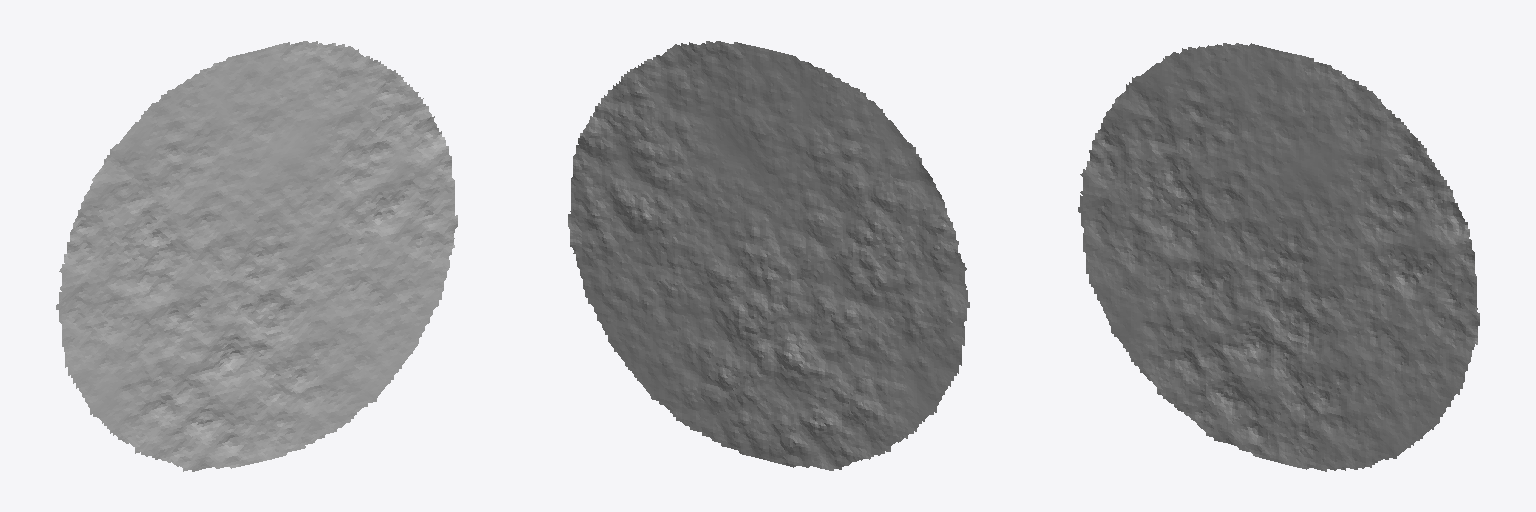
File: water.obj
The picture shows the model from 3 angles: view 1: azimuth 30°, elevation 25°; view 2: azimuth 150°, elevation 25°; view 3: azimuth 330°, elevation 25°; orthographic projection.
Parts seen in each view (by area): view 1: groundplanedisk2.001; view 2: groundplanedisk2.001; view 3: groundplanedisk2.001.
Part boxes in pixels (x1,y1,x2,y2): groundplanedisk2.001: (56,41,457,471); groundplanedisk2.001: (568,41,969,470); groundplanedisk2.001: (1078,43,1479,471).
Size of the model in its own units: 5805 by 5683 by 89.44.